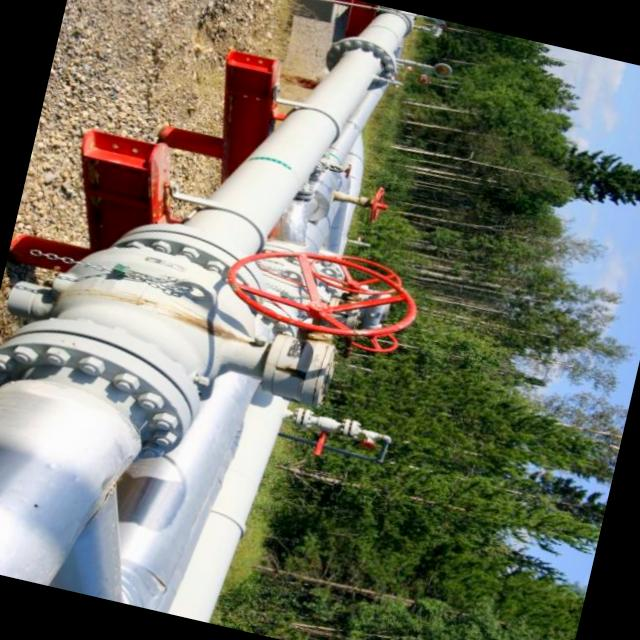gas: (0, 267, 285, 624), (265, 16, 410, 271)
